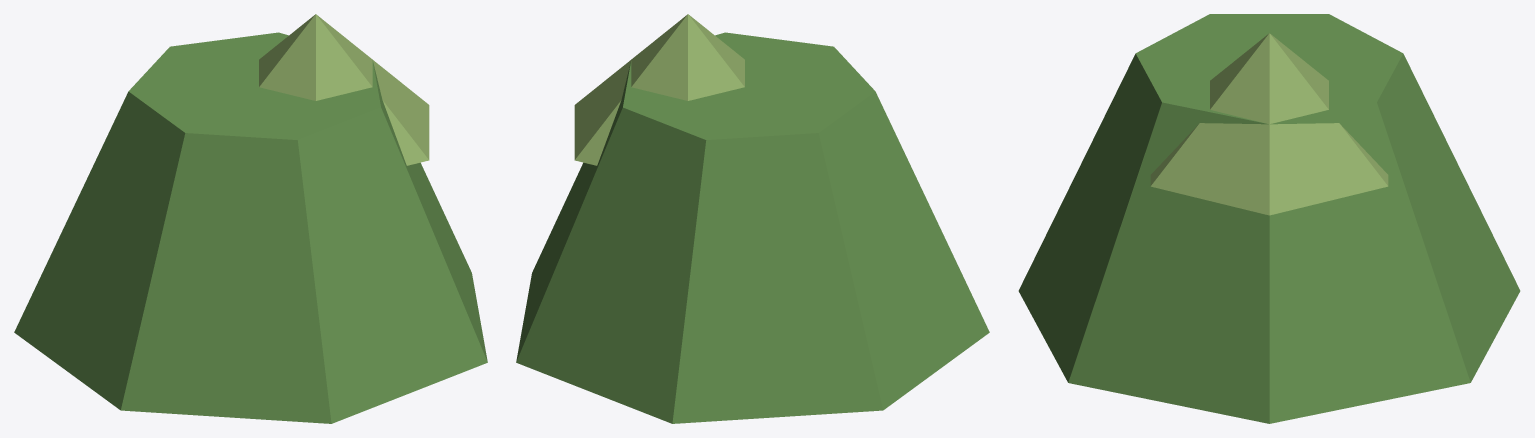
The model's file is bush_02.glb.
3 views of the same model, side by side, from view 1: azimuth 30°, elevation 25°; view 2: azimuth 150°, elevation 25°; view 3: azimuth 270°, elevation 25° (orthographic). The views are drawn at different scales.
Bounding box in the file's own units: 1.43 × 1 × 1.46.
